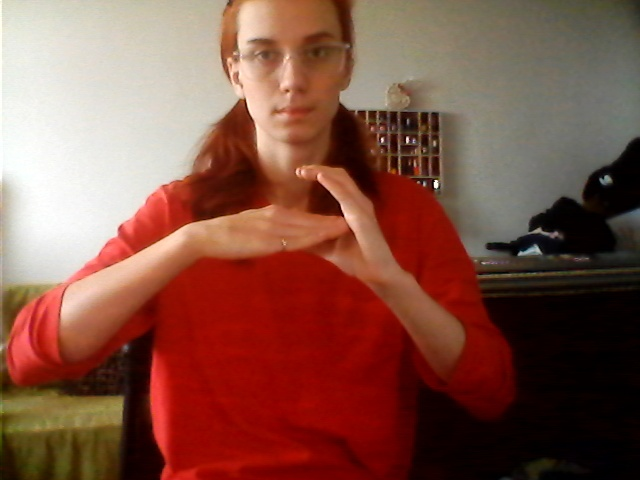e: (214, 158, 394, 292)
